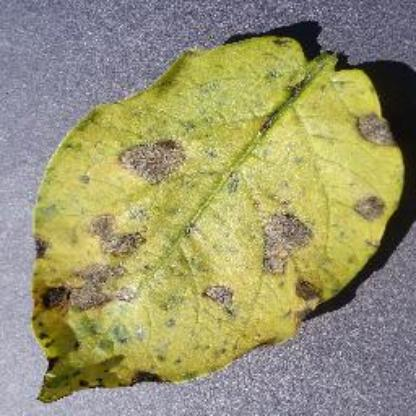Early-Blight: (29, 13, 412, 406)
